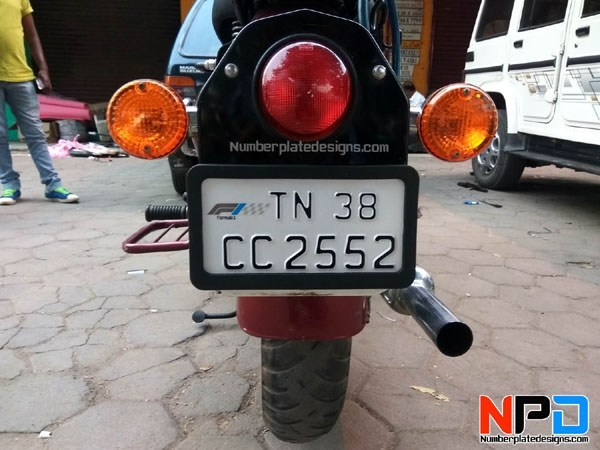number_plate: (180, 159, 429, 295)
